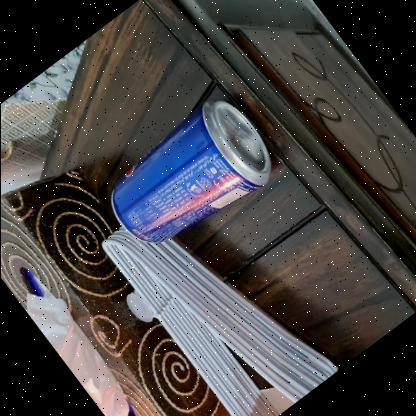Can: (108, 98, 270, 242)
